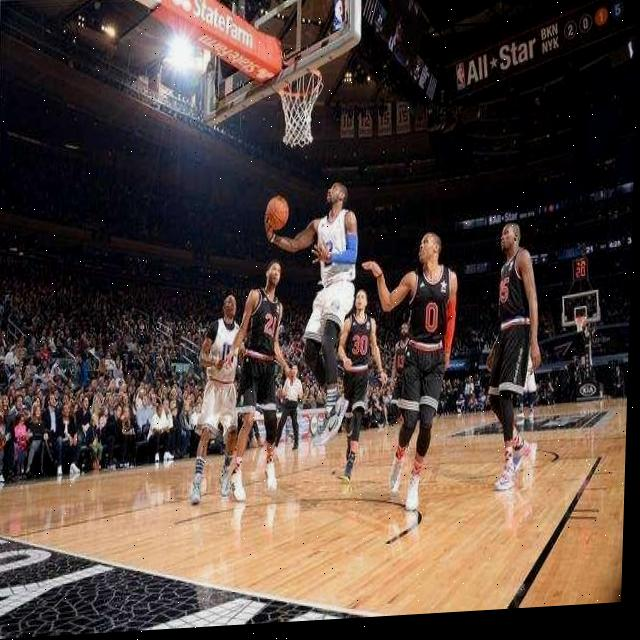basketball: (267, 196, 290, 230)
hoop: (276, 68, 323, 148), (573, 315, 587, 333)
